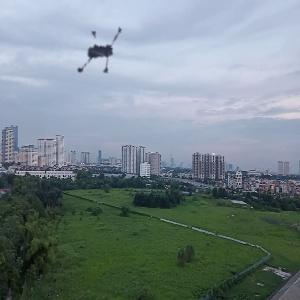drone: (63, 22, 140, 99)
